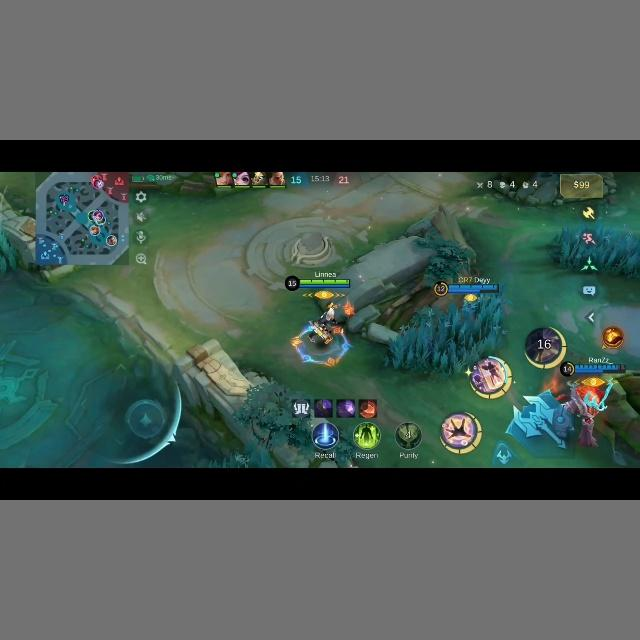hp_self: (432, 280, 501, 297), (561, 364, 627, 374), (298, 278, 350, 288)
minion_ally: (292, 304, 346, 349)
